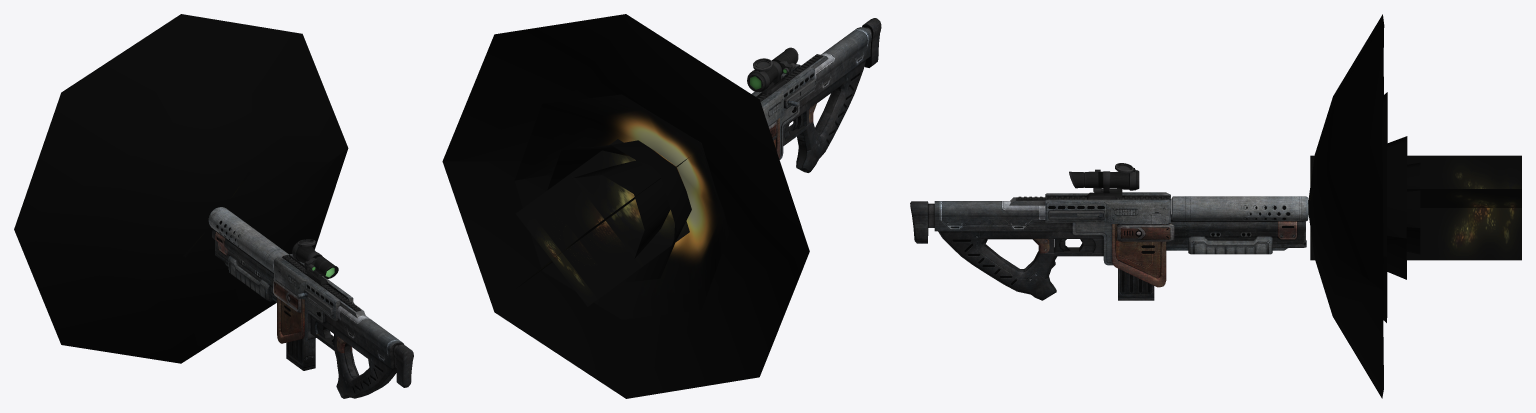
File: TP_Mamba.dae
3 views of the same model, side by side, from view 1: azimuth 30°, elevation 25°; view 2: azimuth 150°, elevation 25°; view 3: azimuth 270°, elevation 25° (orthographic). The views are drawn at different scales.
Parts seen in each view (by area): view 1: Mamba_MuzzleFlash4_LOD300, Rifle2_LOD300, Rifle2_LOD100, Rifle2_LOD200; view 2: Mamba_MuzzleFlash4_LOD300, Mamba_MuzzleFlash3_LOD300, Mamba_MuzzleFlash2_LOD300, Rifle2_LOD300, Mamba_MuzzleFlash1_LOD300, Rifle2_LOD100, Rifle2_LOD200; view 3: Mamba_MuzzleFlash4_LOD300, Rifle2_LOD200, Rifle2_LOD300, Rifle2_LOD100, Mamba_MuzzleFlash2_LOD300, Mamba_MuzzleFlash3_LOD300, Mamba_MuzzleFlash1_LOD300.
Part boxes in pixels (<box>): Mamba_MuzzleFlash4_LOD300: <box>14,14,348,363</box>; Rifle2_LOD300: <box>208,207,413,398</box>; Rifle2_LOD100: <box>213,221,412,387</box>; Rifle2_LOD200: <box>217,220,413,397</box>; Mamba_MuzzleFlash4_LOD300: <box>442,14,809,398</box>; Mamba_MuzzleFlash3_LOD300: <box>514,94,729,319</box>; Mamba_MuzzleFlash2_LOD300: <box>543,140,691,286</box>; Rifle2_LOD300: <box>747,18,881,172</box>; Mamba_MuzzleFlash1_LOD300: <box>526,160,670,298</box>; Rifle2_LOD100: <box>748,34,879,170</box>; Rifle2_LOD200: <box>747,19,871,172</box>; Mamba_MuzzleFlash4_LOD300: <box>1308,14,1521,398</box>; Rifle2_LOD200: <box>910,163,1308,300</box>; Rifle2_LOD300: <box>910,163,1308,291</box>; Rifle2_LOD100: <box>912,163,1289,297</box>; Mamba_MuzzleFlash2_LOD300: <box>1310,136,1407,279</box>; Mamba_MuzzleFlash3_LOD300: <box>1310,92,1387,322</box>; Mamba_MuzzleFlash1_LOD300: <box>1310,156,1420,259</box>.
Size of what is drawn, in the model's own units: 1.1 by 1.68 by 1.1.
